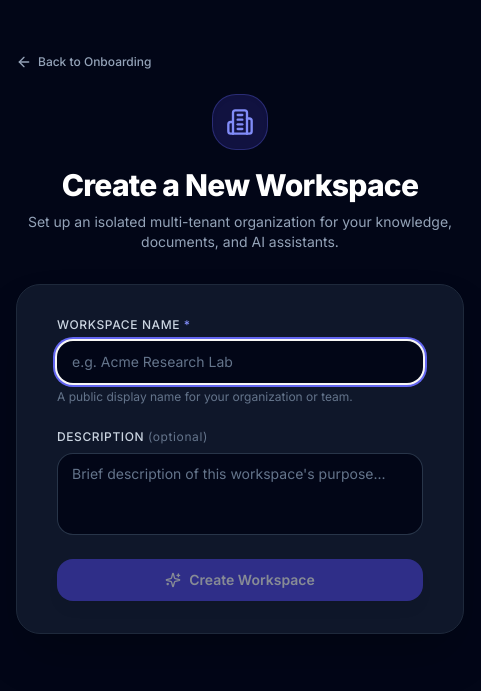
Test: WS-A8: Create & Join Workspace Workflows › Create Workspace Workflow (/workspaces/new) › 4. Renders backend error message on creation failure
Type "Acme Unverified" into the field labelled "Workspace Name *".
click(240, 362); type("Acme Unverified")  # box top-left (57, 341), bottom-right (423, 383)
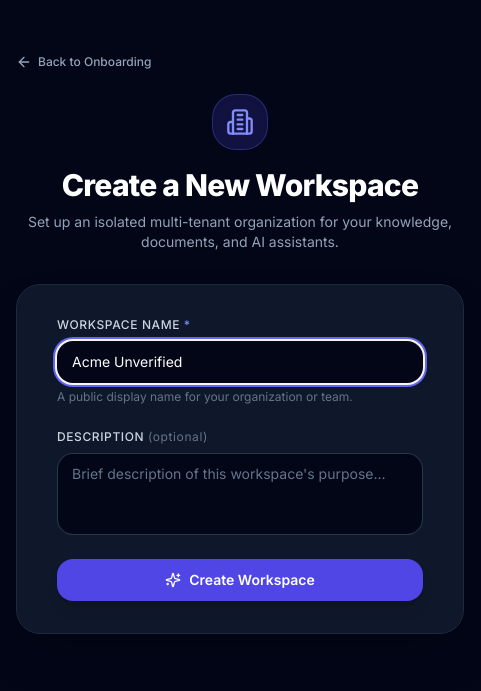
Click the button "Create Workspace".
click(240, 580)  # box top-left (57, 559), bottom-right (423, 601)
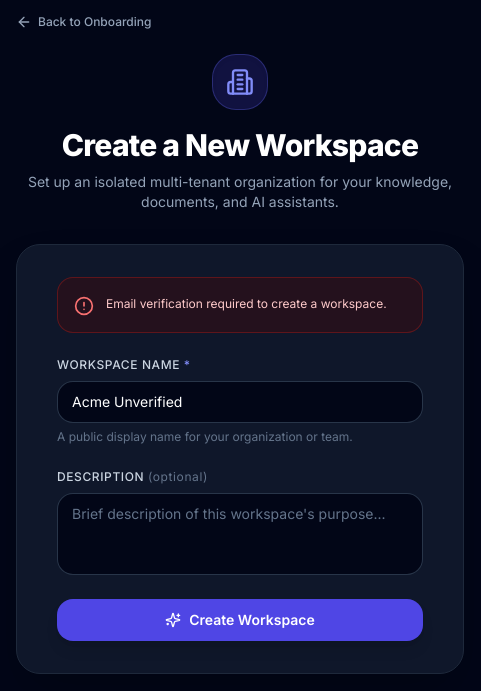
Check: the text "Email verification required to create a workspace." is shown, box top-left (106, 294), bottom-right (387, 314)
